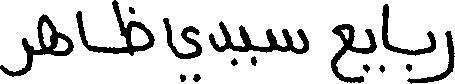X: (164, 13, 201, 83), (113, 0, 153, 60), (0, 33, 35, 81), (38, 9, 70, 60), (264, 24, 307, 58), (332, 19, 353, 83), (437, 26, 454, 83), (210, 16, 230, 56), (77, 6, 87, 53), (383, 0, 389, 76), (427, 26, 435, 83), (368, 24, 375, 75), (240, 20, 249, 56)
